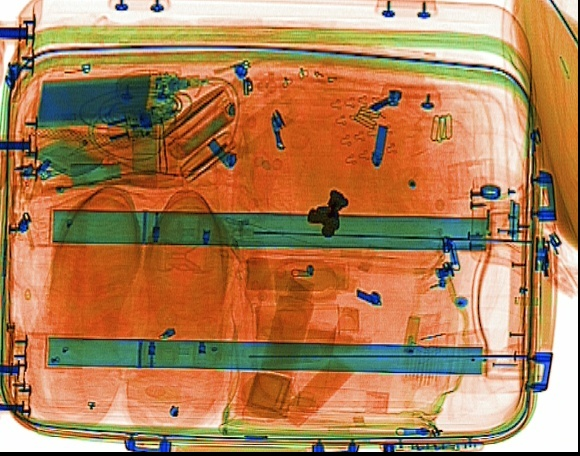powerbank: (33, 69, 181, 131)
